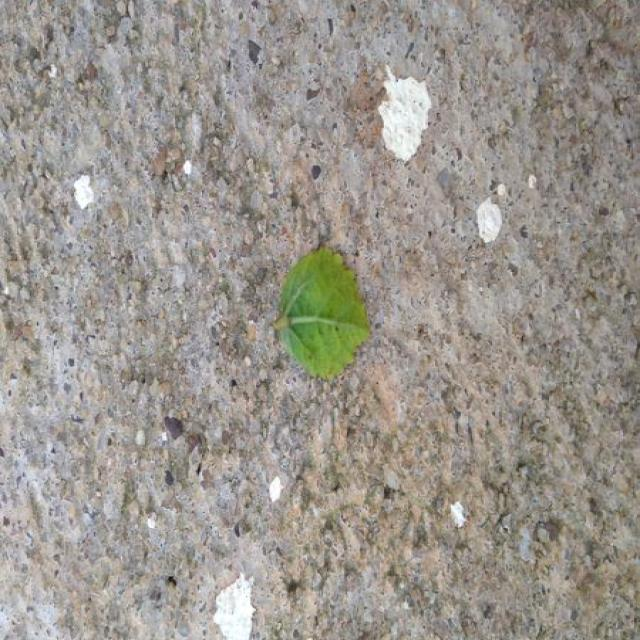Hibiscus: (115, 0, 260, 202)
